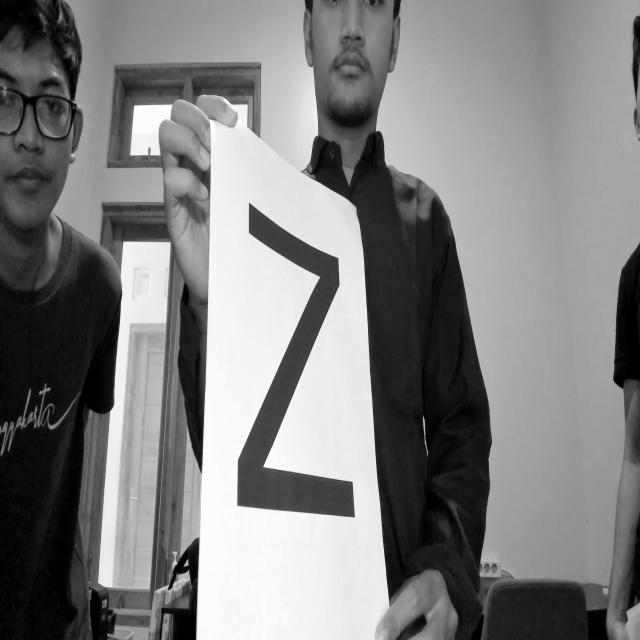z: (232, 188, 359, 542)
